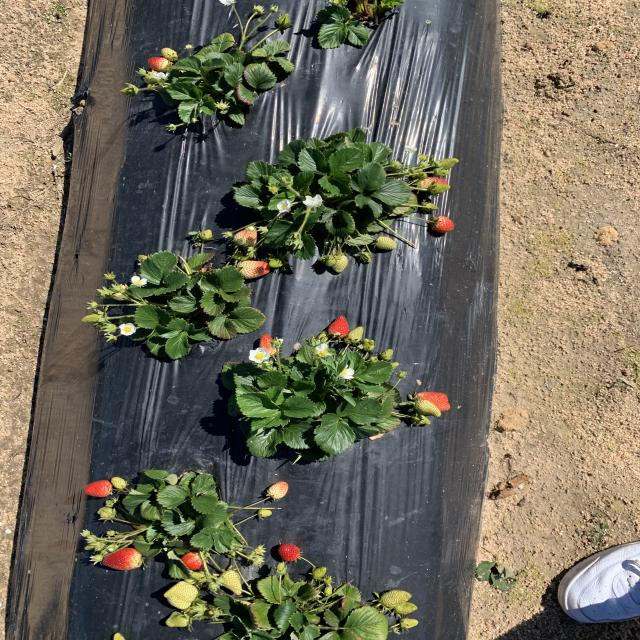unripe: (101, 547, 146, 570), (414, 392, 452, 413), (82, 480, 116, 498), (326, 315, 351, 338), (178, 550, 205, 570), (427, 216, 455, 235), (276, 542, 302, 562), (259, 334, 276, 358), (148, 57, 171, 72)
